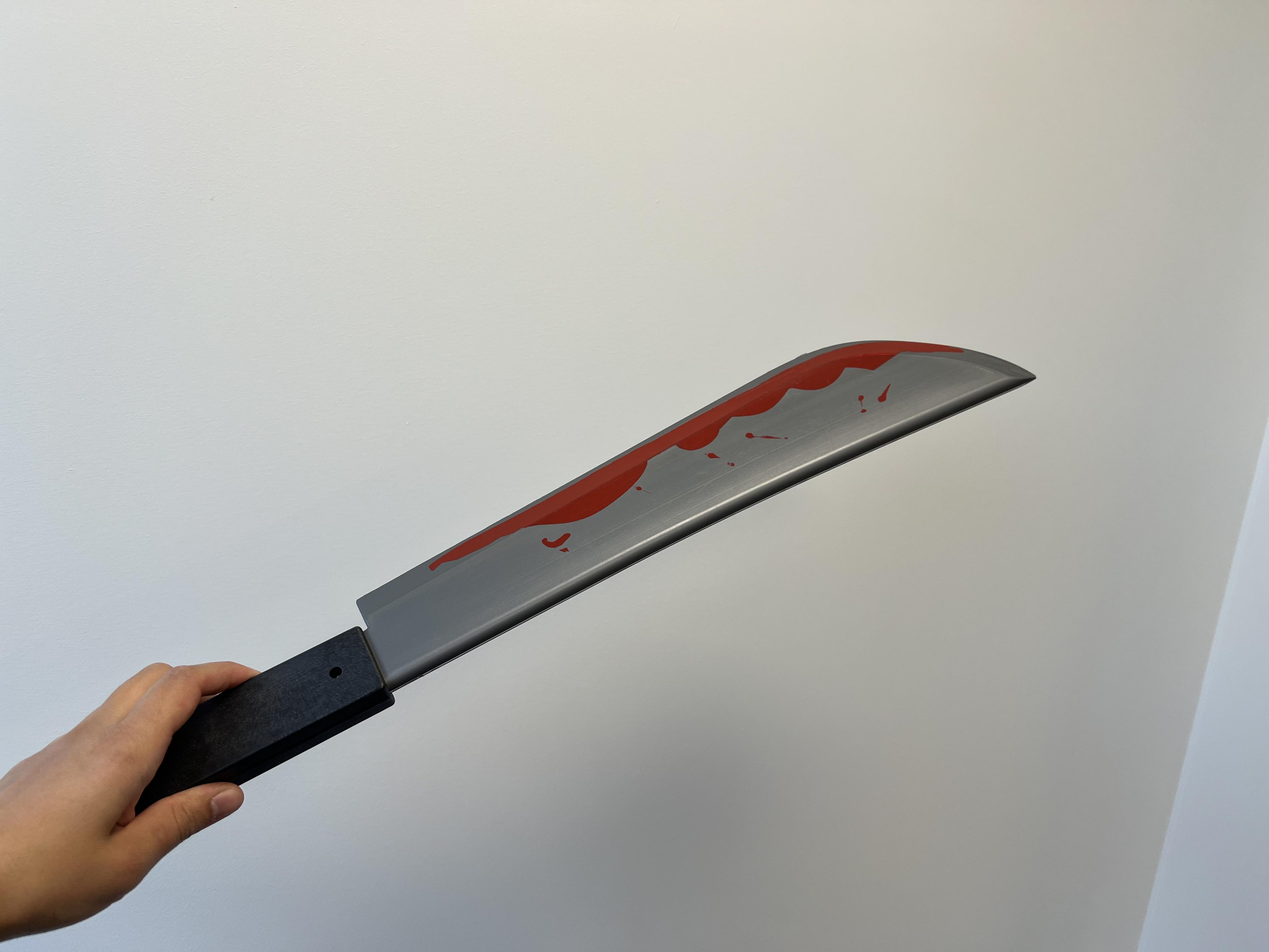Knife: (265, 334, 1037, 759), (0, 651, 262, 938), (0, 662, 261, 944)
